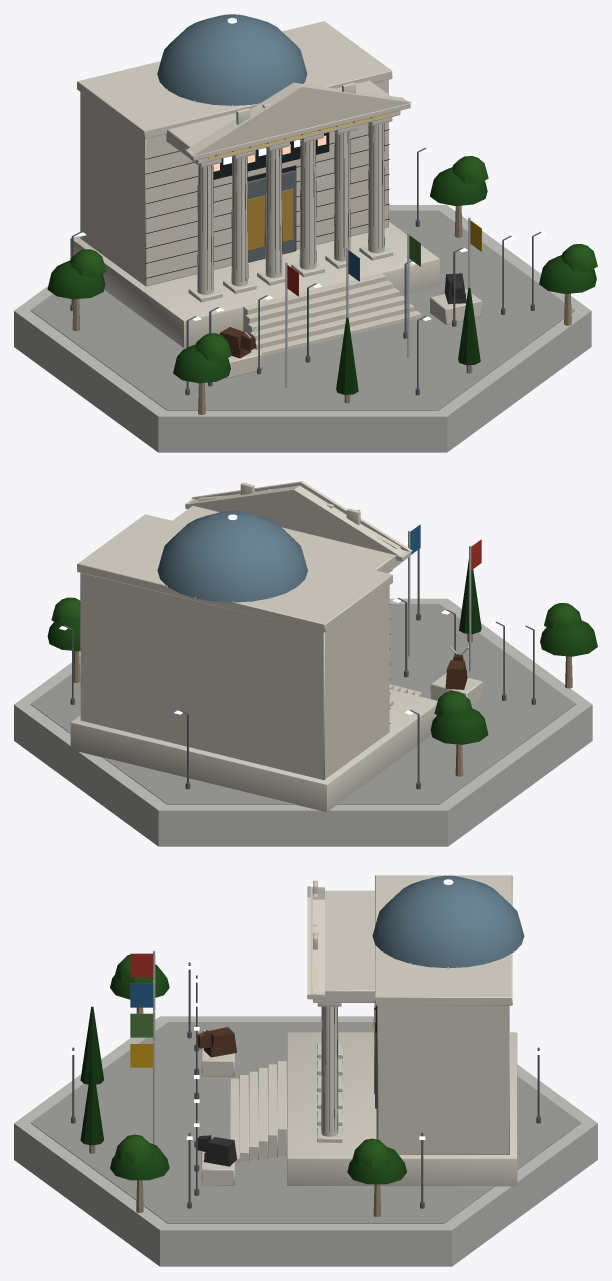
Rendered from stockExchange_med.glb.
3 views of the same model, one above another, from view 1: azimuth 30°, elevation 25°; view 2: azimuth 150°, elevation 25°; view 3: azimuth 270°, elevation 25° (orthographic).
Parts seen in each view (by area): view 1: stone, pavers, wall_concrete, leaf, glass, dark, paint, steel_dark, gold, metal, wood; view 2: stone, wall_concrete, pavers, glass, leaf, steel_dark, paint, metal, wood; view 3: stone, pavers, wall_concrete, glass, leaf, paint, steel_dark, dark, wood, metal.
Part boxes in pixels (x1,y1,x2,y2): stone: [70, 21, 481, 378]; pavers: [30, 210, 574, 410]; wall_concrete: [14, 205, 591, 452]; leaf: [47, 156, 597, 394]; glass: [157, 14, 307, 105]; dark: [145, 117, 389, 289]; paint: [213, 132, 481, 358]; steel_dark: [70, 147, 541, 395]; gold: [208, 113, 391, 250]; metal: [156, 73, 470, 387]; wood: [72, 205, 571, 414]; stone: [70, 481, 482, 811]; wall_concrete: [14, 598, 592, 846]; pavers: [30, 604, 576, 804]; glass: [157, 511, 307, 602]; leaf: [47, 559, 597, 744]; steel_dark: [64, 549, 535, 789]; paint: [358, 510, 481, 689]; metal: [157, 530, 471, 671]; wood: [73, 633, 572, 776]; stone: [201, 875, 517, 1186]; pavers: [31, 1022, 580, 1223]; wall_concrete: [14, 1016, 597, 1266]; glass: [372, 875, 524, 968]; leaf: [80, 955, 406, 1184]; paint: [130, 953, 376, 1166]; steel_dark: [71, 962, 540, 1208]; dark: [321, 1006, 377, 1138]; wood: [89, 1003, 381, 1216]; metal: [153, 935, 524, 1144].
Size of the model in its own units: 21.31 by 12.95 by 24.6.
